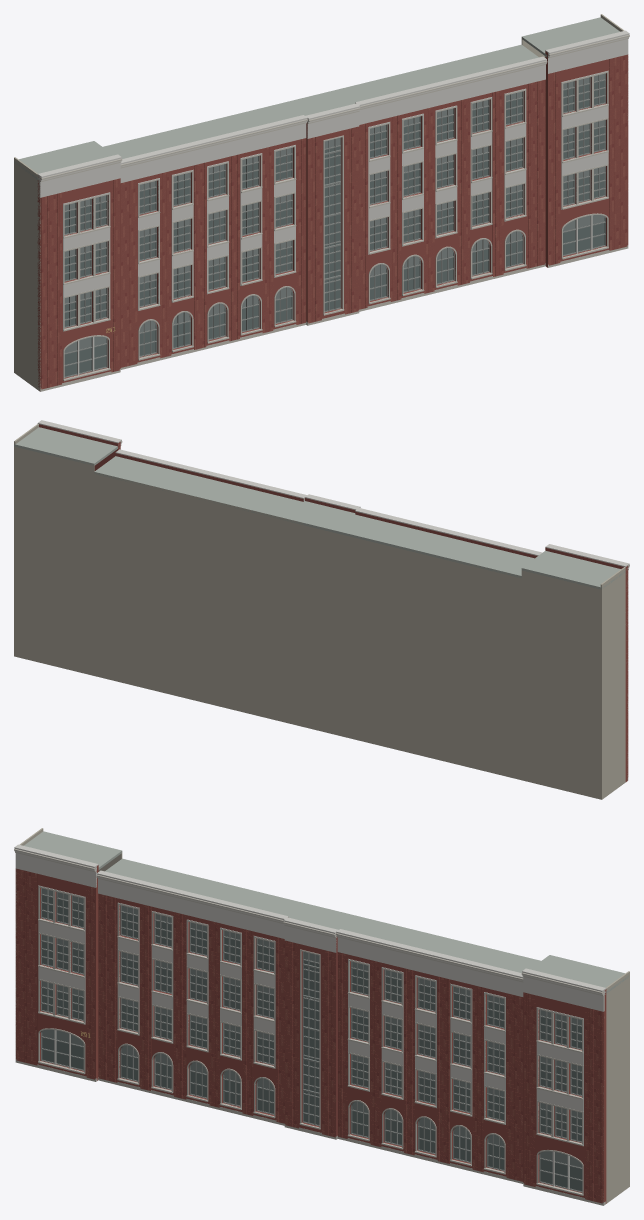
Rendered from huangpu-aurora-university-library-raw.glb.
3 views of the same model, one above another, from view 1: azimuth 30°, elevation 25°; view 2: azimuth 150°, elevation 25°; view 3: azimuth 330°, elevation 25° (orthographic).
Parts seen in each view (by area): view 1: 震旦大学图书馆教学大楼（西一号楼）球场侧立面; view 2: 震旦大学图书馆教学大楼（西一号楼）球场侧立面; view 3: 震旦大学图书馆教学大楼（西一号楼）球场侧立面.
Boxes of the visible parts, x1,y1,x2,y2 form: 震旦大学图书馆教学大楼（西一号楼）球场侧立面: [14, 14, 629, 391]; 震旦大学图书馆教学大楼（西一号楼）球场侧立面: [14, 420, 629, 799]; 震旦大学图书馆教学大楼（西一号楼）球场侧立面: [14, 828, 629, 1205].
Bounding box in the file's own units: 59.7 × 20.97 × 4.93.
